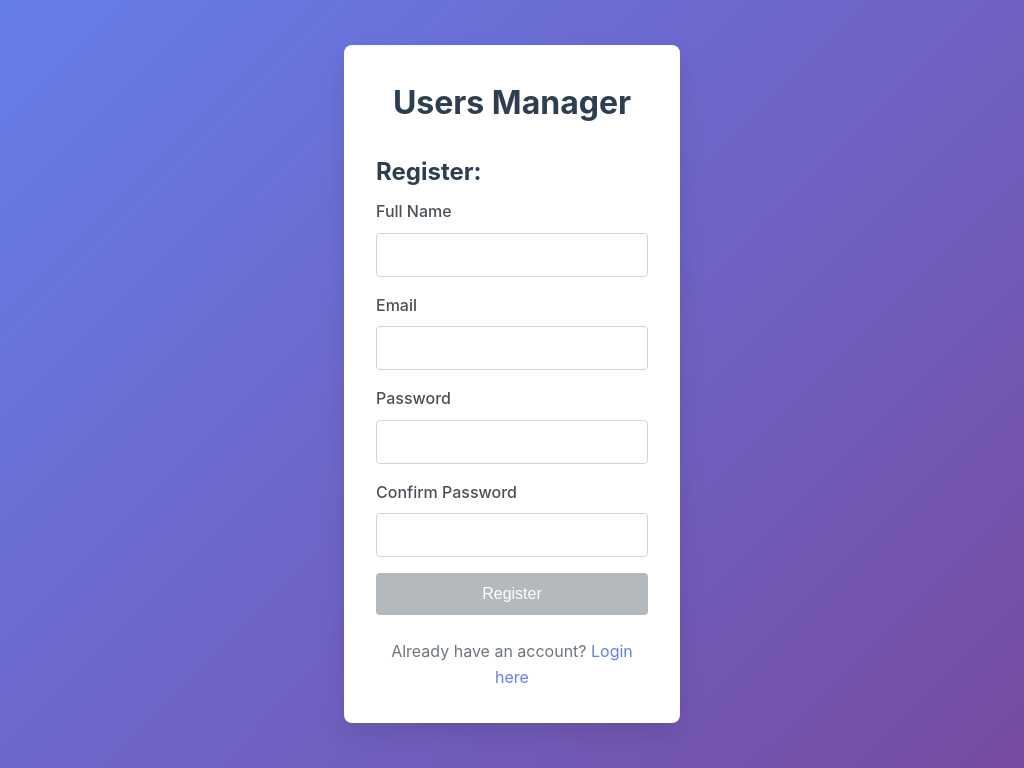
Test: Register › disables submit button when form is incomplete
This screenshot has width=1024, height=768.
Expected: the button "Register" is disabled, [376,573,648,615]
Fill only some fields
Type "John Doe" into the field labelled "Full Name".
click(512, 255); type("John Doe")  # box [376,233,648,277]
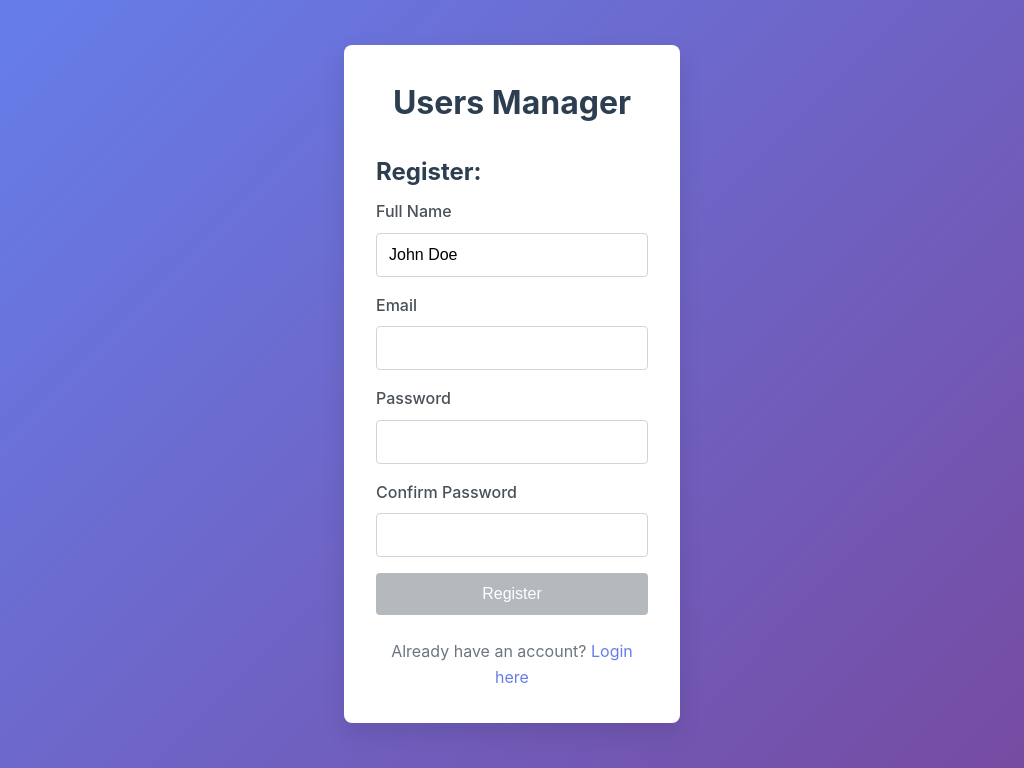
Type "john@example.com" into the field labelled "Email".
click(512, 348); type("john@example.com")  # box [376,326,648,370]
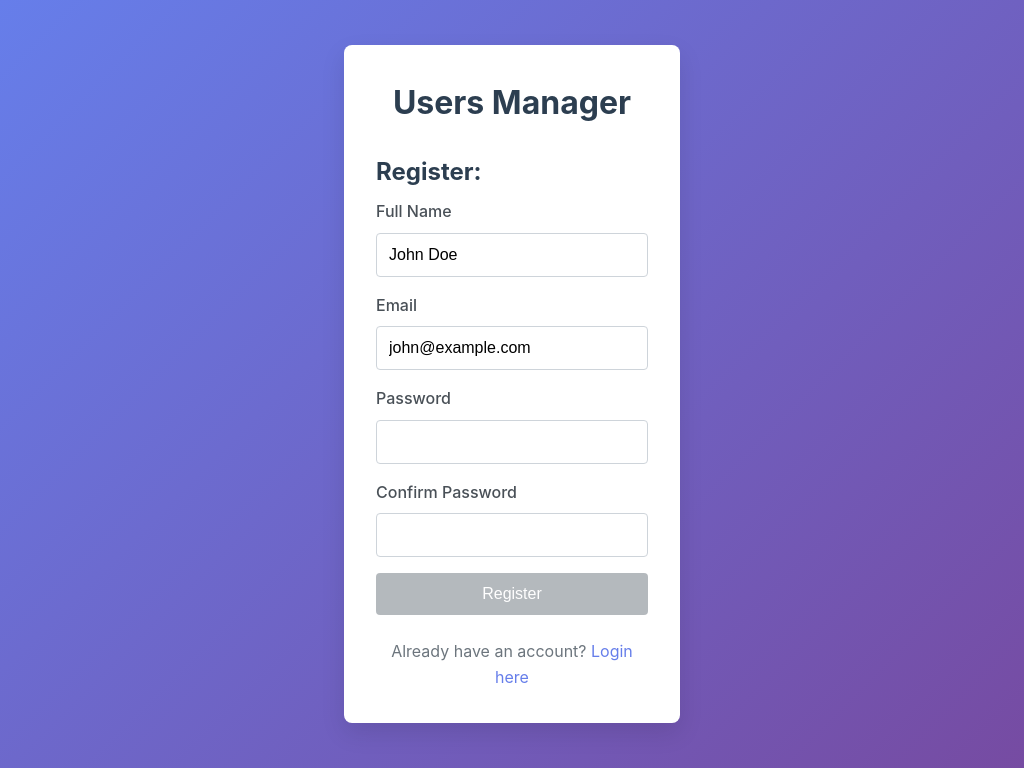
Expected: the button "Register" is disabled, [376,573,648,615]
Fill all fields
Type "password123" into the password field labelled "Password".
click(512, 442); type("password123")  # box [376,420,648,464]
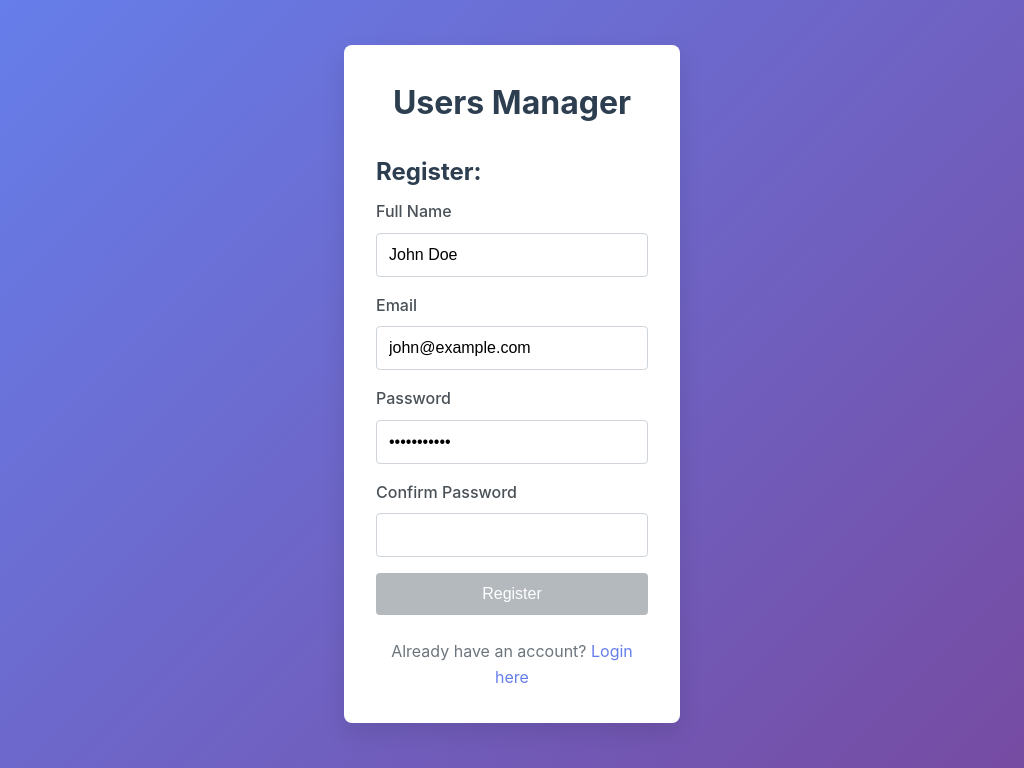
Type "password123" into the password field labelled "Confirm Password".
click(512, 535); type("password123")  # box [376,513,648,557]
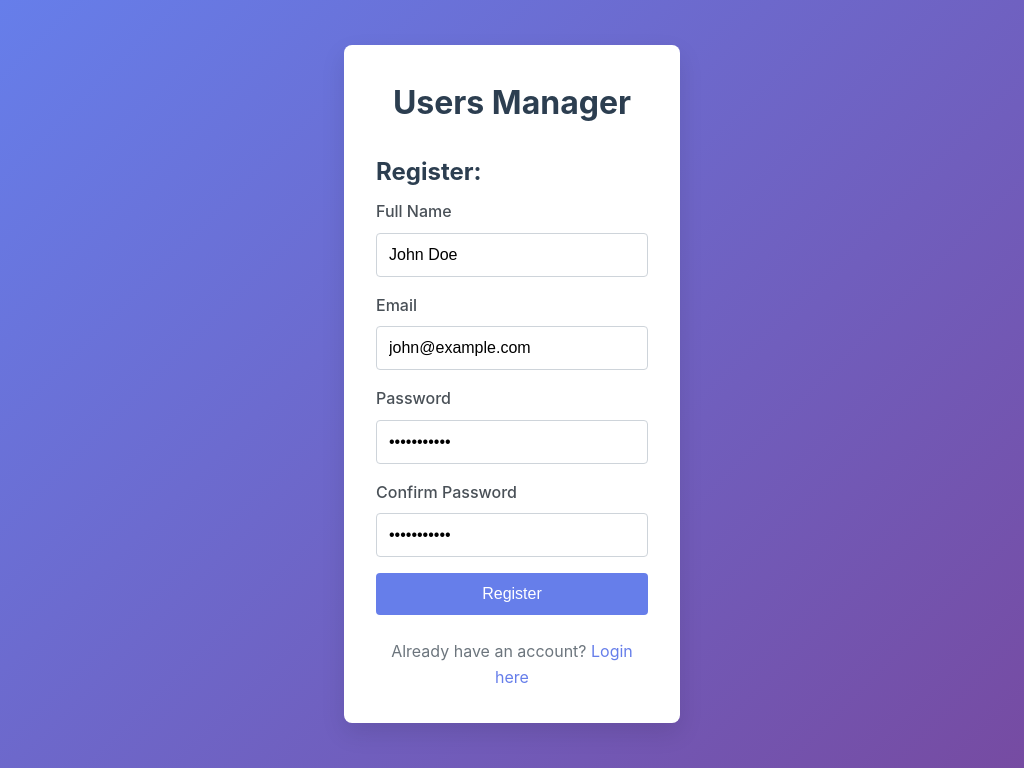
Result: the button "Register" is enabled at [376,573,648,615]
